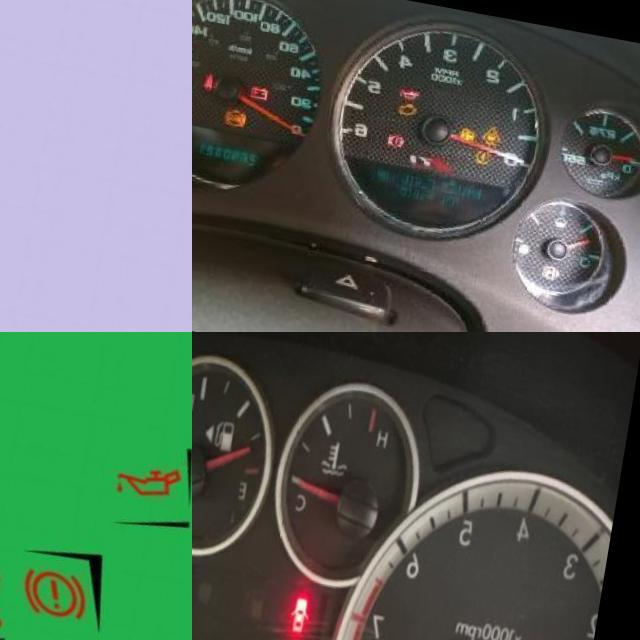Seat Belt: (211, 67, 224, 86)
